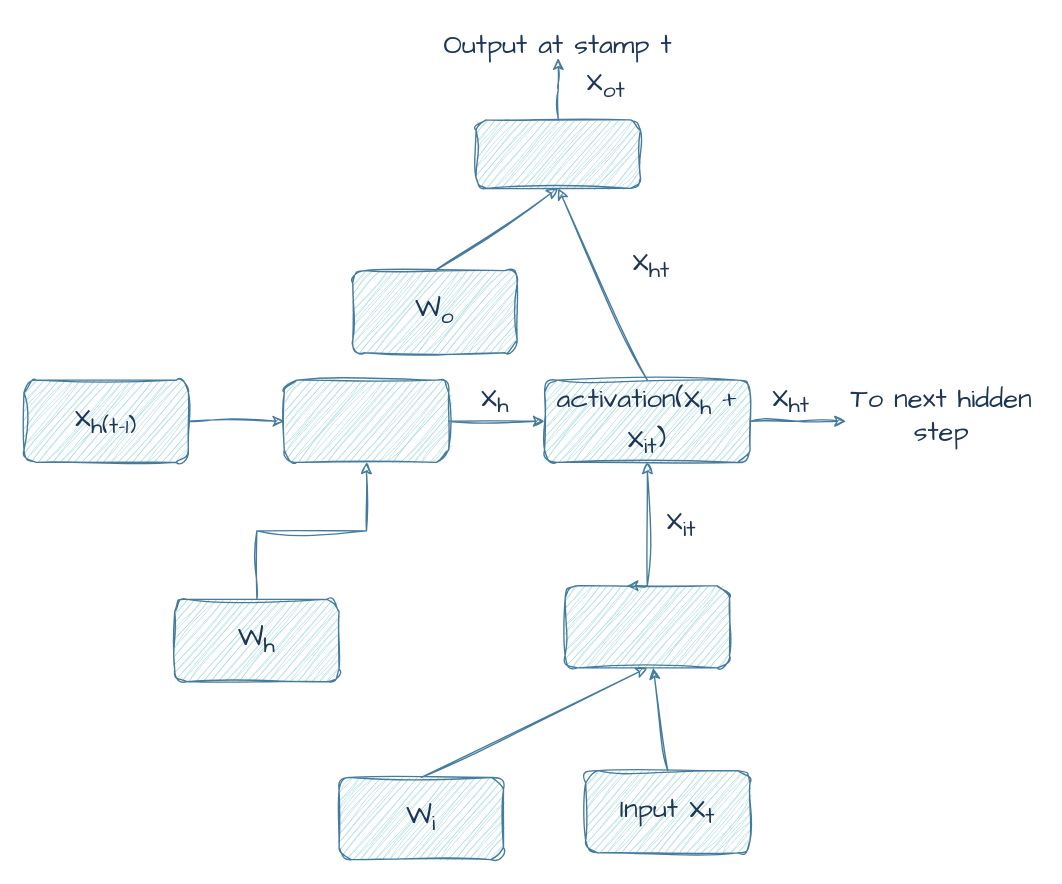
This 1062x884 diagram has some shape labels left out. Here are the shapes that lost their labels. From the top down, the centre of each, then its label:
At point 557,153: "W o @ X ht".
At point 366,420: "W h @ X h(t-1)".
At point 647,626: "W i @ X t".
